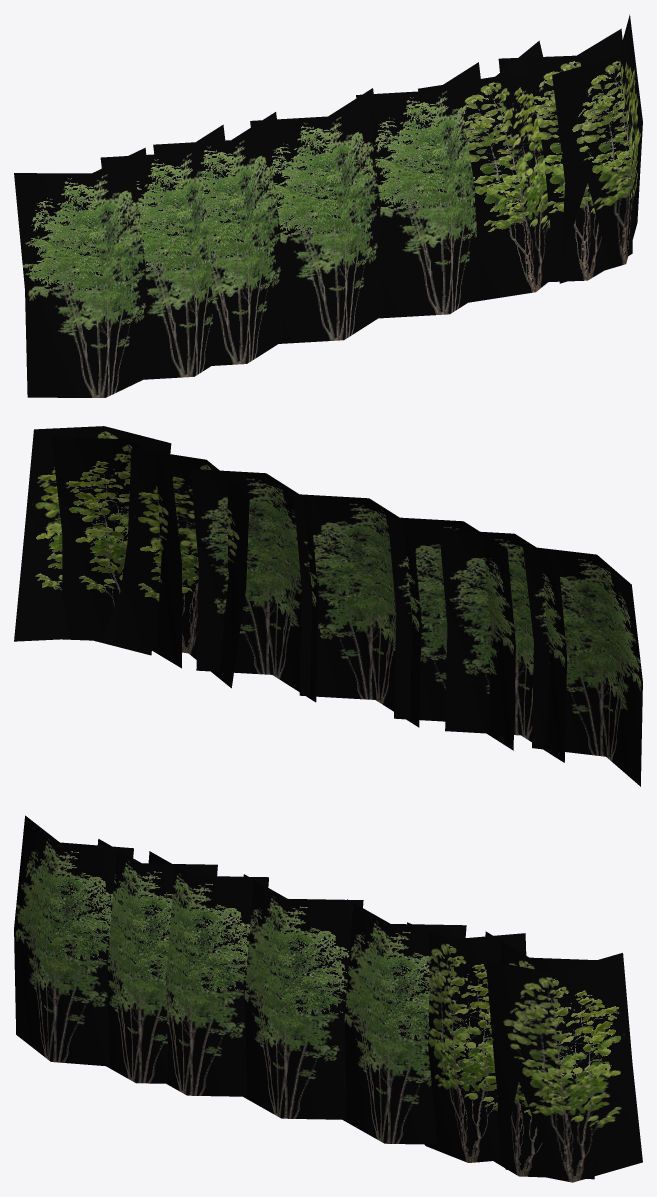
File: plants.fbx
The picture shows the model from 3 angles, top to bottom: view 1: azimuth 30°, elevation 25°; view 2: azimuth 150°, elevation 25°; view 3: azimuth 330°, elevation 25°; orthographic projection. The views are drawn at different scales.
Parts seen in each view (by area): view 1: plants001; view 2: plants001; view 3: plants001.
Part boxes in pixels (box(x1,y1,x2,y2)): plants001: box(14, 14, 642, 397); plants001: box(14, 426, 642, 786); plants001: box(14, 815, 642, 1182).
Size of the model in its own units: 401 by 142 by 44.06.
